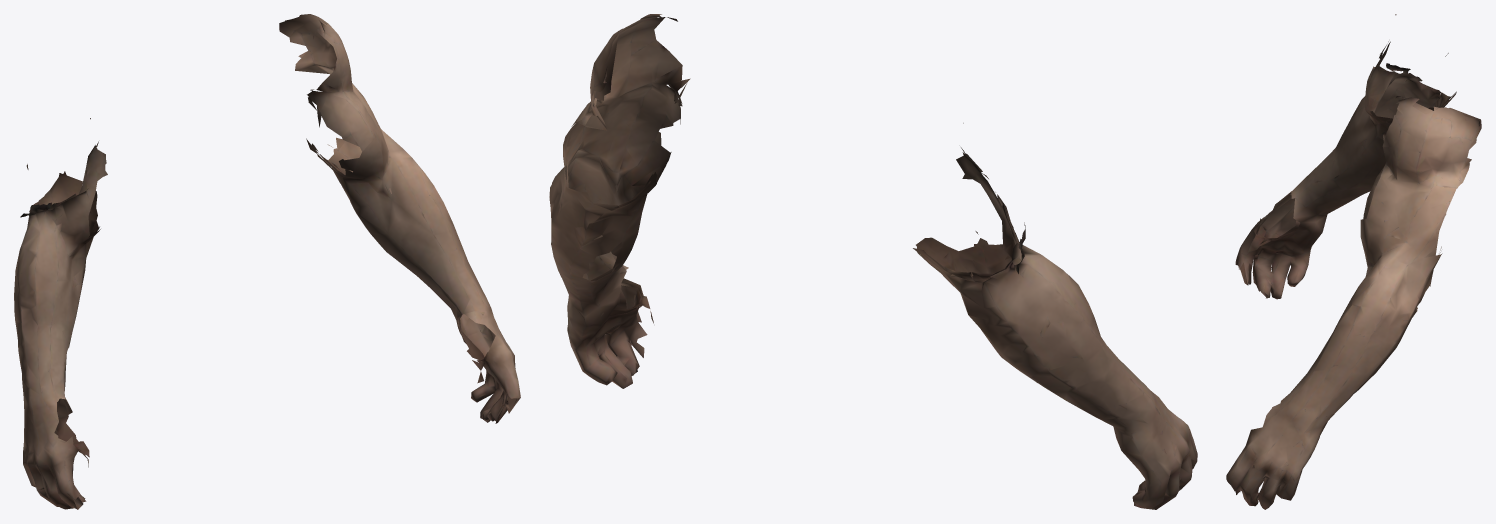
The model's file is bracos_humanos.glb.
3 views of the same model, side by side, from view 1: azimuth 30°, elevation 25°; view 2: azimuth 150°, elevation 25°; view 3: azimuth 270°, elevation 25° (orthographic). The views are drawn at different scales.
Visible parts, largest first — view 1: bracos_humanos; view 2: bracos_humanos; view 3: bracos_humanos.
Boxes of the visible parts, x1,y1,x2,y2 form: bracos_humanos: [14, 14, 520, 509]; bracos_humanos: [549, 14, 1197, 509]; bracos_humanos: [1226, 14, 1481, 509].
Size of the model in its own units: 0.9942 by 0.735 by 0.4637.
1 material, 1 textured.
